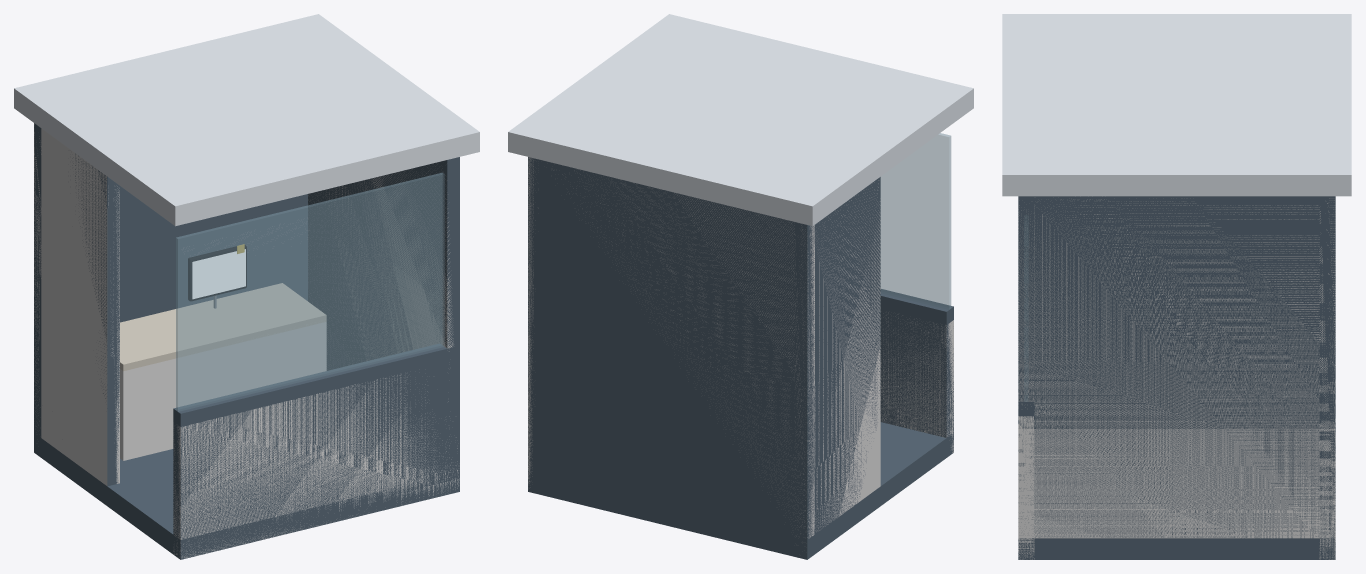
The model's file is guard_hut.glb.
3 views of the same model, side by side, from view 1: azimuth 30°, elevation 25°; view 2: azimuth 150°, elevation 25°; view 3: azimuth 270°, elevation 25° (orthographic). The views are drawn at different scales.
Visible parts, largest first — view 1: hut, col_0, col_3, col_4, col_2, screen, col_1, monitor; view 2: hut, col_3, col_1, col_0, col_2; view 3: hut, col_2, col_1, col_0.
Part boxes in pixels (x1=…): hut: x1=14, y1=14, x2=479, y2=559; col_0: x1=173, y1=374, x2=459, y2=558; col_3: x1=41, y1=128, x2=119, y2=485; col_4: x1=120, y1=322, x2=326, y2=460; col_2: x1=308, y1=164, x2=453, y2=401; screen: x1=192, y1=249, x2=245, y2=298; col_1: x1=34, y1=123, x2=41, y2=426; monitor: x1=188, y1=245, x2=246, y2=308; hut: x1=508, y1=14, x2=973, y2=559; col_3: x1=794, y1=180, x2=880, y2=536; col_1: x1=553, y1=170, x2=814, y2=538; col_0: x1=880, y1=312, x2=953, y2=452; col_2: x1=528, y1=157, x2=538, y2=489; hut: x1=1002, y1=14, x2=1351, y2=559; col_2: x1=1018, y1=199, x2=1319, y2=538; col_1: x1=1319, y1=198, x2=1335, y2=559; col_0: x1=1018, y1=416, x2=1034, y2=559.
Size of the model in its own units: 2.4 by 2.73 by 2.2.
